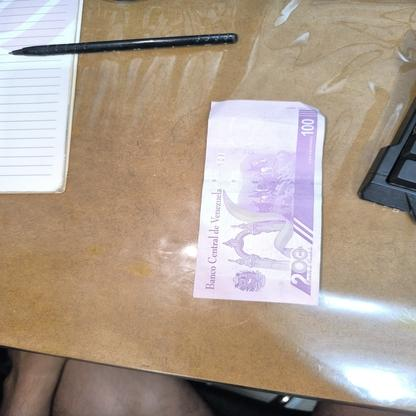one_hundred-back-vef: (192, 99, 326, 305)
